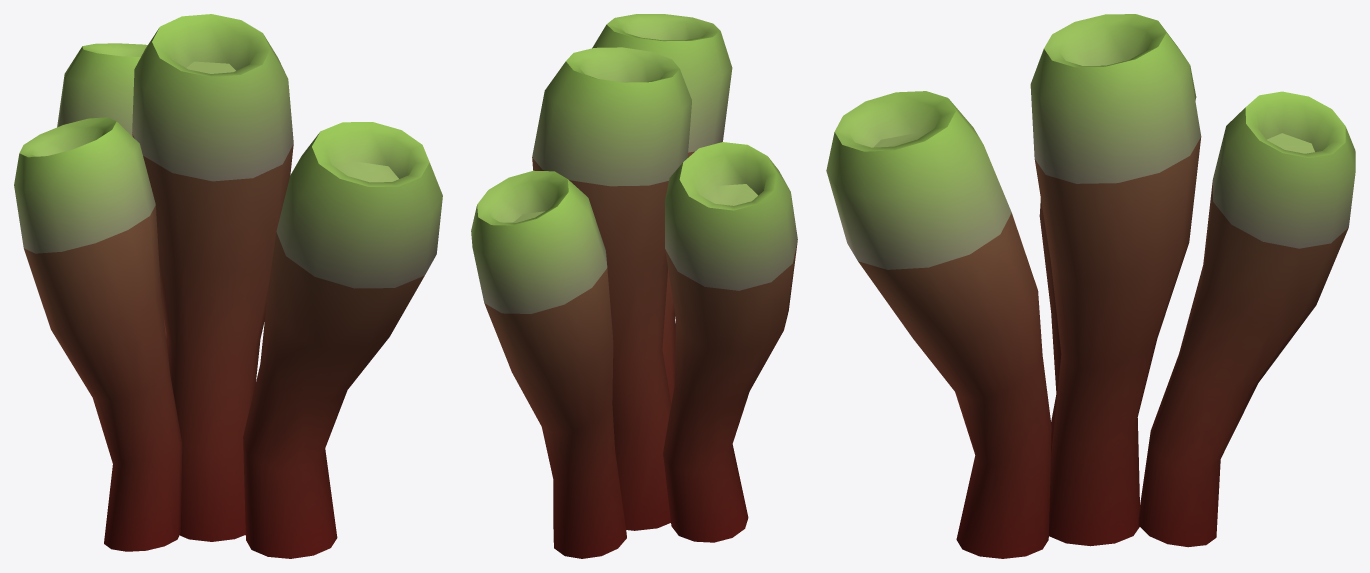
The model's file is coral_orange.glb.
The picture shows the model from 3 angles, left to right: view 1: azimuth 30°, elevation 25°; view 2: azimuth 150°, elevation 25°; view 3: azimuth 270°, elevation 25°; orthographic projection. The views are drawn at different scales.
Visible parts, largest first — view 1: coral_orange; view 2: coral_orange; view 3: coral_orange.
Part boxes in pixels (bbox=[...]): coral_orange: bbox=[14, 14, 442, 558]; coral_orange: bbox=[471, 14, 797, 558]; coral_orange: bbox=[826, 14, 1355, 558].
Bounding box in the file's own units: 0.437 × 0.6518 × 0.6235.
Materials: 1 (1 with a texture image).
